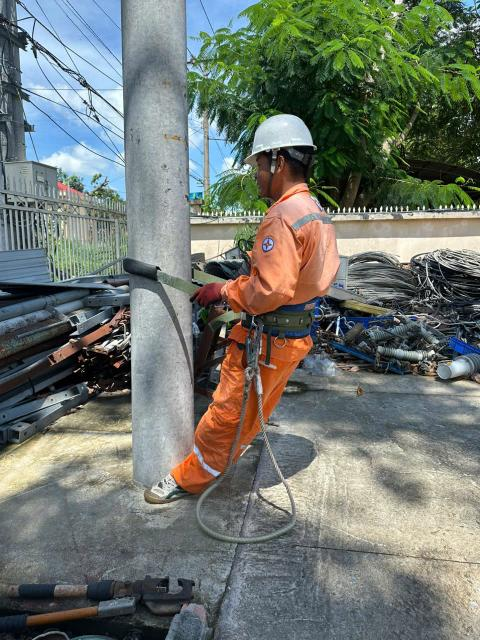gloves: (185, 276, 237, 311)
harness: (232, 290, 321, 338)
helmet: (222, 103, 339, 173)
shoes: (140, 460, 190, 509)
